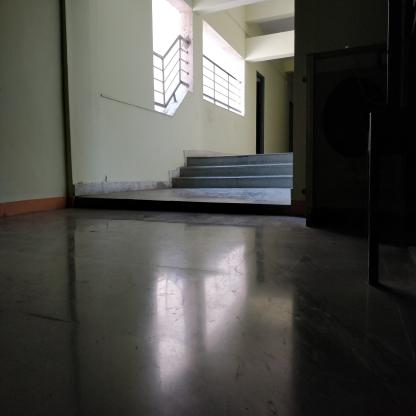stairs: (188, 154, 292, 194)
